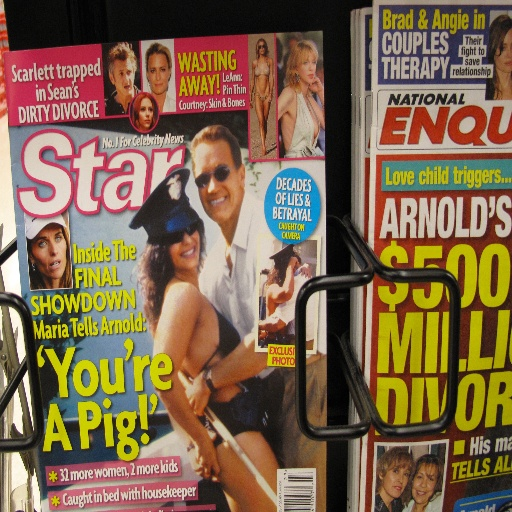hand: (184, 370, 211, 418), (185, 450, 219, 484), (307, 76, 322, 93), (297, 263, 312, 278), (286, 256, 298, 269), (258, 332, 267, 344), (266, 92, 272, 104), (258, 319, 261, 335), (248, 100, 253, 109)
